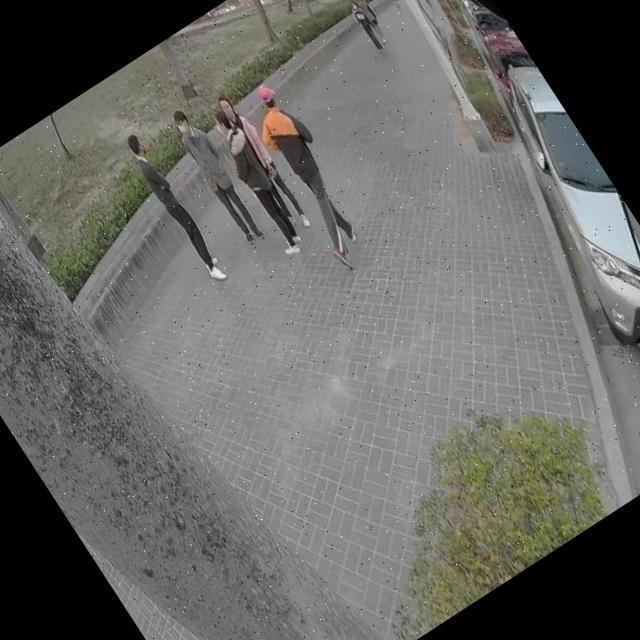person: (224, 66, 389, 278), (193, 98, 319, 264), (118, 129, 230, 286), (208, 82, 317, 232), (166, 105, 270, 246), (340, 0, 390, 55), (350, 0, 387, 39)
